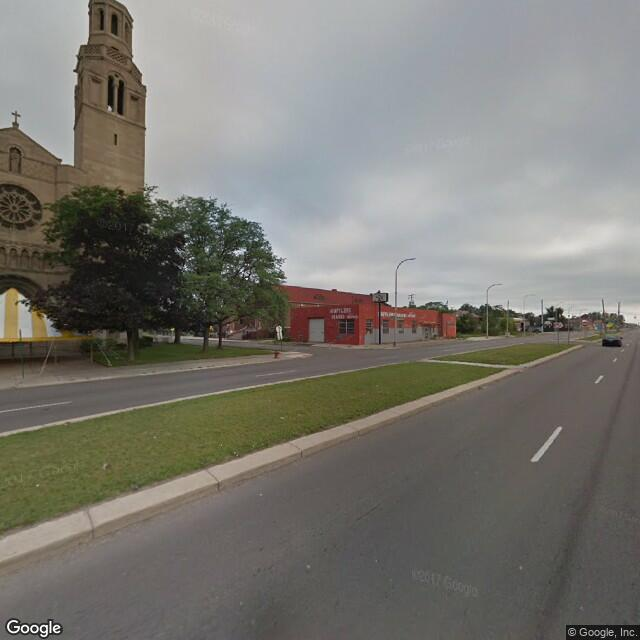litter: (101, 461, 109, 471), (476, 383, 484, 389)
